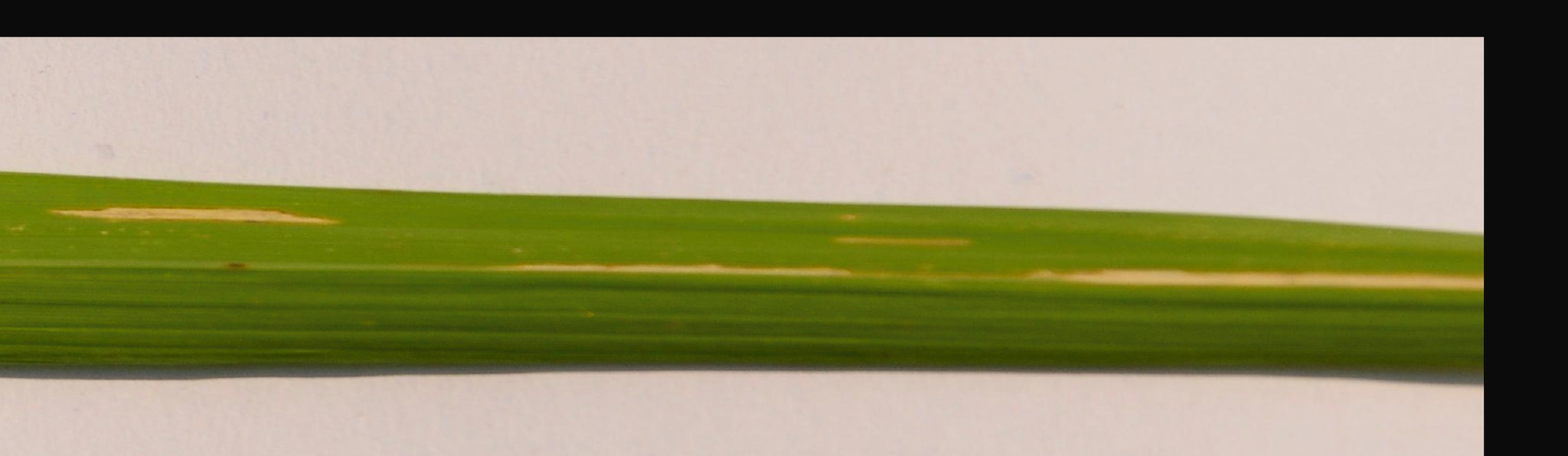Leaf_Blast: (422, 257, 1481, 291), (5, 191, 349, 249)
